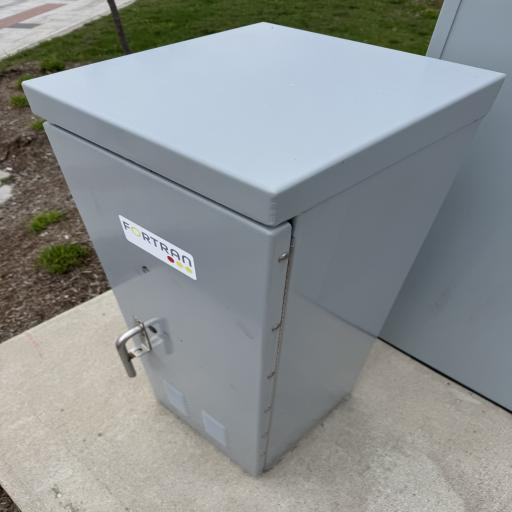Electrical Box: (21, 20, 511, 473)
